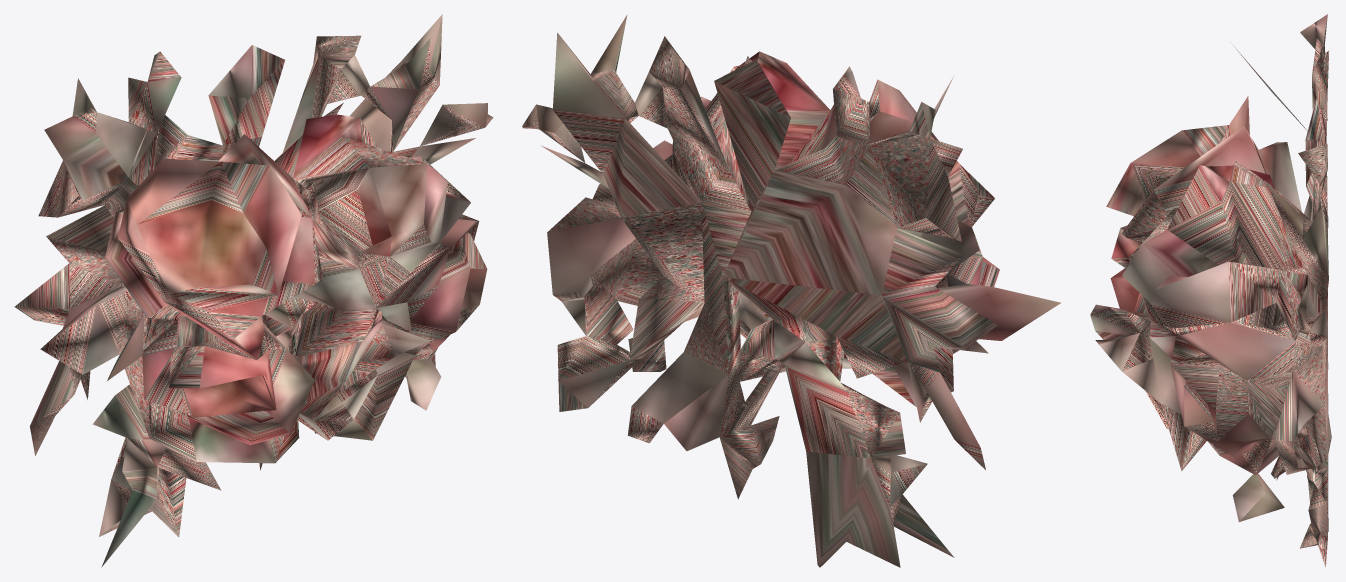
3 views of the same model, side by side, from view 1: azimuth 30°, elevation 25°; view 2: azimuth 150°, elevation 25°; view 3: azimuth 270°, elevation 25° (orthographic). The views are drawn at different scales.
Parts seen in each view (by area): view 1: Rose-Bouquet-10-10; view 2: Rose-Bouquet-10-10; view 3: Rose-Bouquet-10-10.
Boxes of the visible parts, x1,y1,x2,y2 form: Rose-Bouquet-10-10: (14, 14, 493, 567); Rose-Bouquet-10-10: (522, 15, 1061, 567); Rose-Bouquet-10-10: (1090, 14, 1331, 567).
Size of the model in its own units: 0.3066 by 0.296 by 0.134.
Materials: 1 (1 with a texture image).
